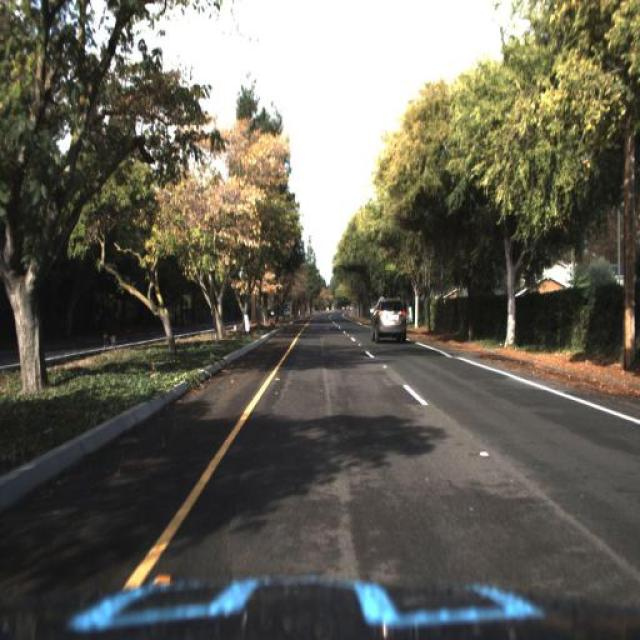car: (368, 296, 408, 346)
